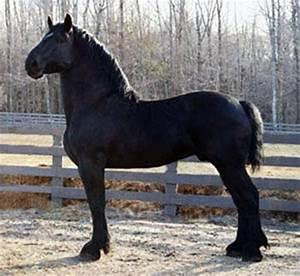horse: (24, 12, 269, 262)
